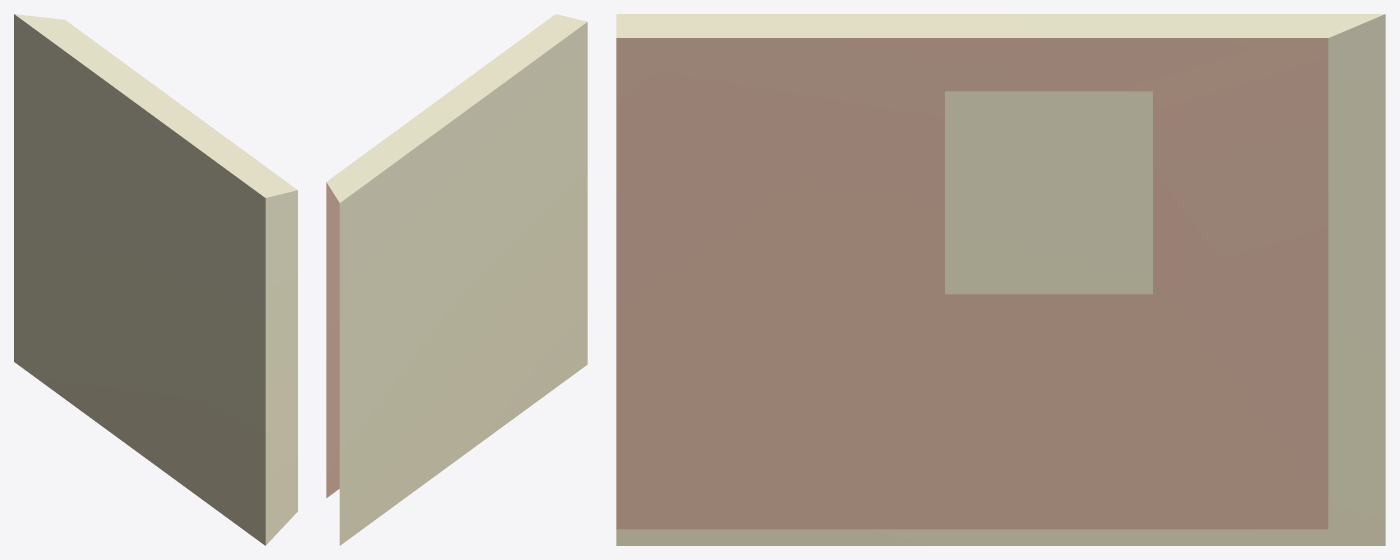
The model's file is testwall2.fbx.
3 views of the same model, side by side, from view 1: azimuth 30°, elevation 25°; view 2: azimuth 150°, elevation 25°; view 3: azimuth 270°, elevation 25° (orthographic). The views are drawn at different scales.
Parts seen in each view (by area): view 1: wall2; view 2: wall2; view 3: wall2.
Boxes of the visible parts, x1,y1,x2,y2 form: wall2: (14, 14, 297, 545); wall2: (326, 14, 587, 545); wall2: (616, 14, 1385, 545).
Bounding box in the file's own units: 4 × 41.07 × 53.82.
